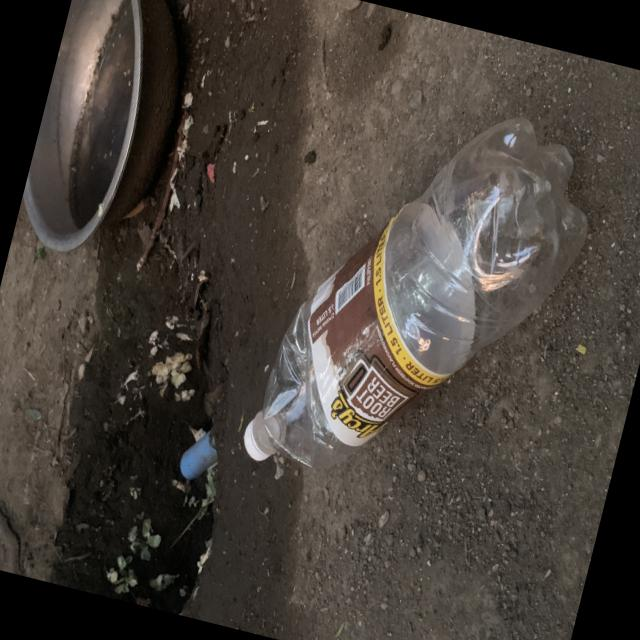Bottle: (242, 118, 585, 467)
